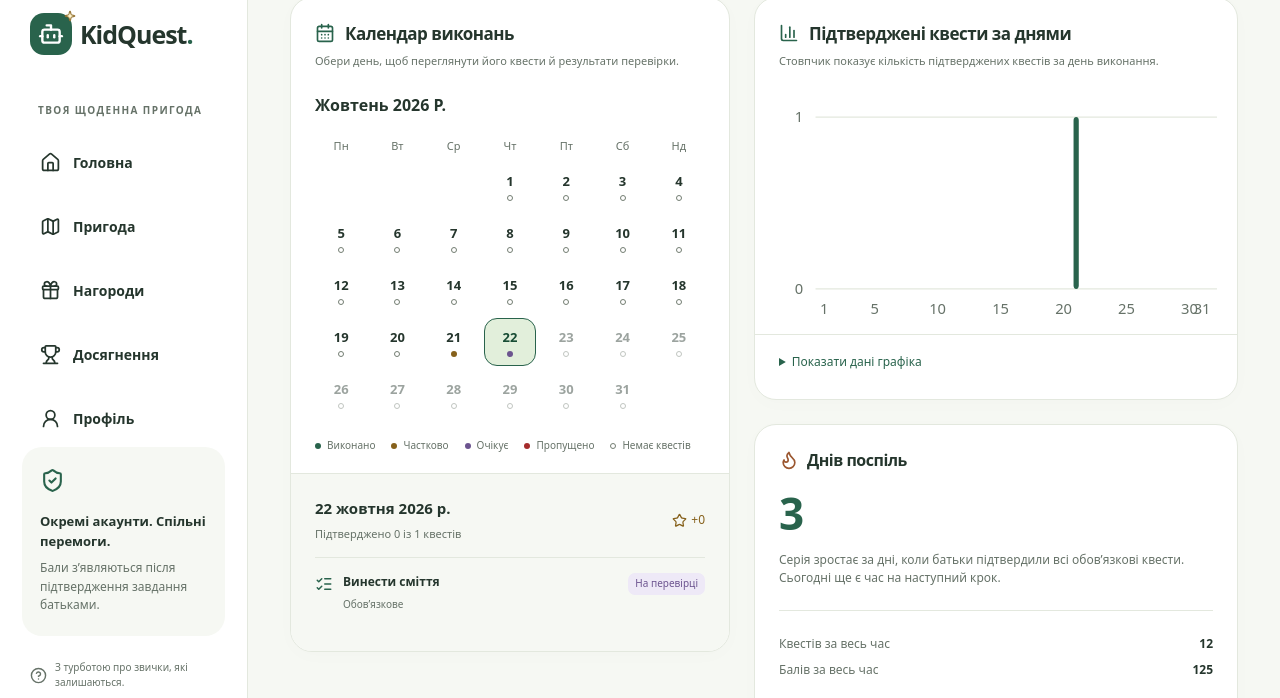
Progress history › selects the family day, shows review states and prevents future day selection
The width and height of the screenshot is (1280, 698).
(page scrolled)
Expected: the text "Винести сміття" is shown, [343,573,440,592]
Expected: the text "На перевірці" is shown, [628,573,705,595]
Click the button "21" at (454, 342), box [428,318,480,366]
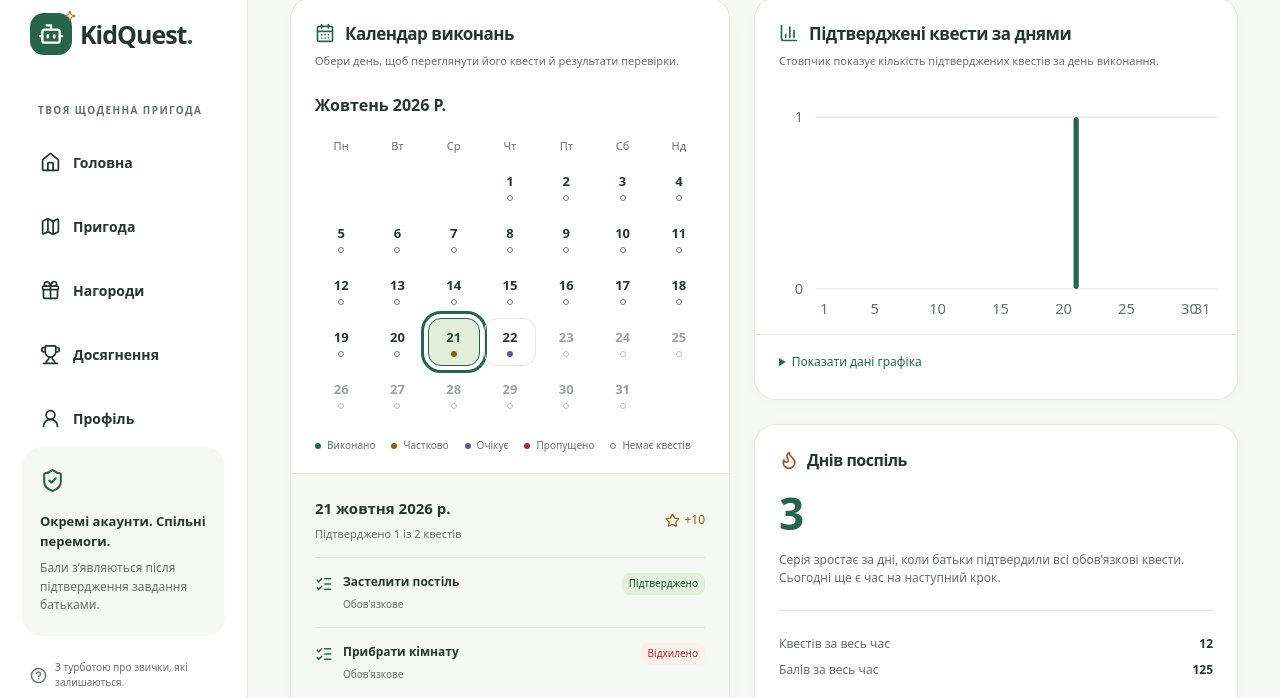
Expected: the button "23" is disabled, [540,318,592,366]
Result: the text "Прибрати кімнату" is shown at [343,643,459,662]
Result: the text "Відхилено" is shown at [640,643,705,665]
Click the heading "Показати дані графіка" at (857, 361), box [792,353,922,370]
(page scrolled)
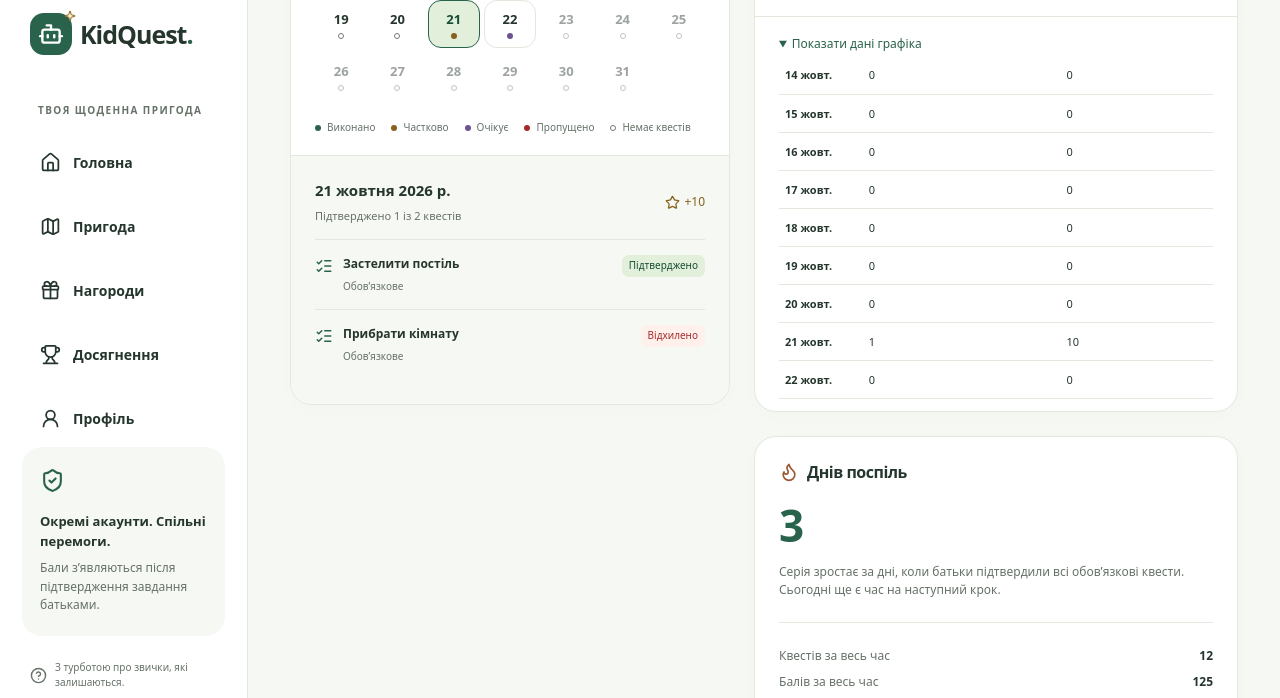
Result: the cell "10" is shown at [1060,322,1213,360]
